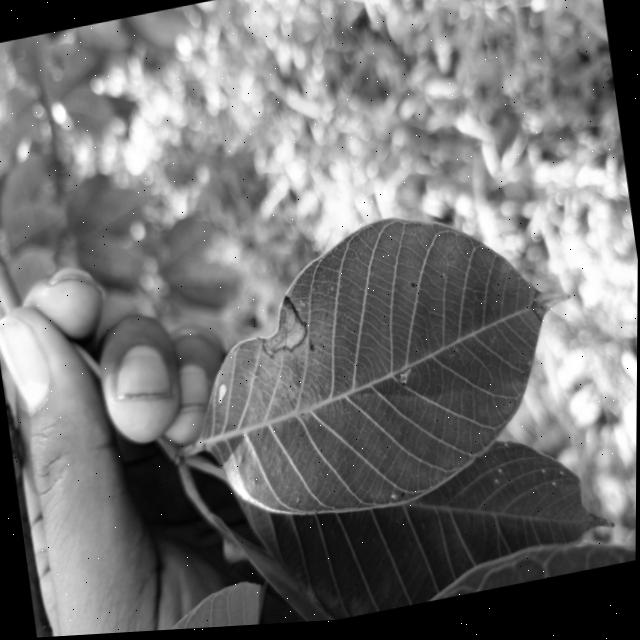Colletotrichum: (411, 287, 417, 293)
Leaf-Blight: (252, 295, 311, 362), (527, 288, 575, 332), (217, 385, 230, 406)
